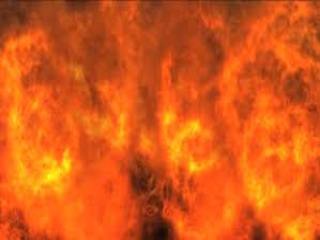fire: (7, 11, 314, 233)
